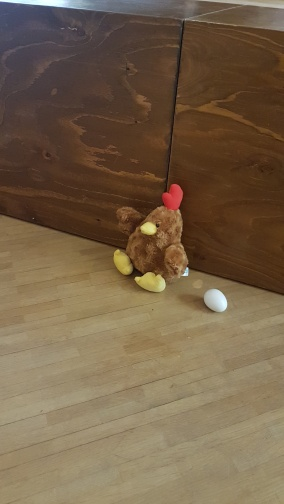chicken: (110, 183, 190, 293)
egg: (201, 287, 230, 314)
